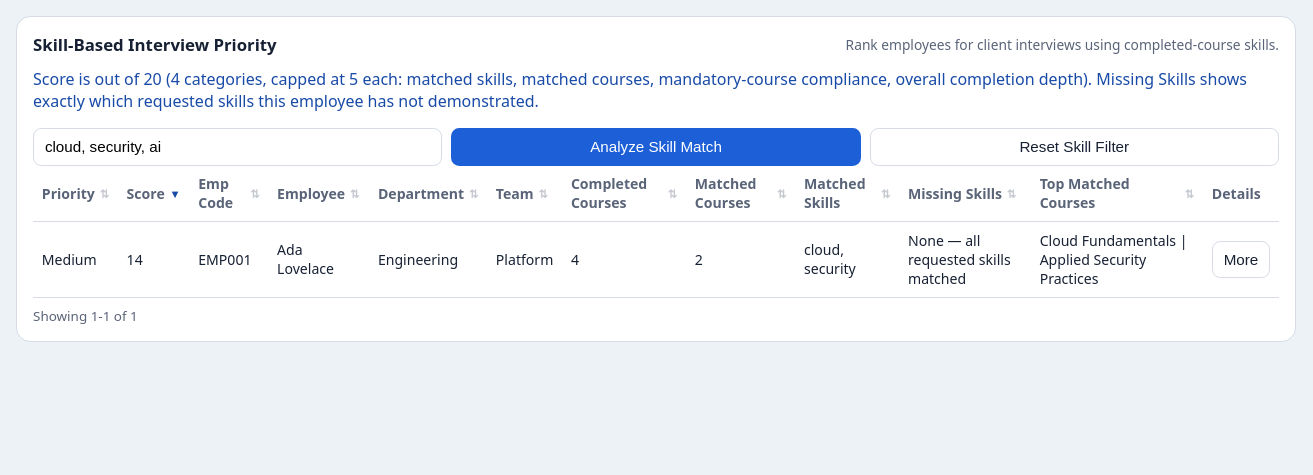
Scenario: SkillMatchPanel › expands a row to show the full matched-skills/courses detail, then collapses it again
This screenshot has width=1313, height=475.
Expected: the text "All Matched Skills" is not shown
Step 1. Click the button "More" → [1241, 259], box [1212, 241, 1270, 278]
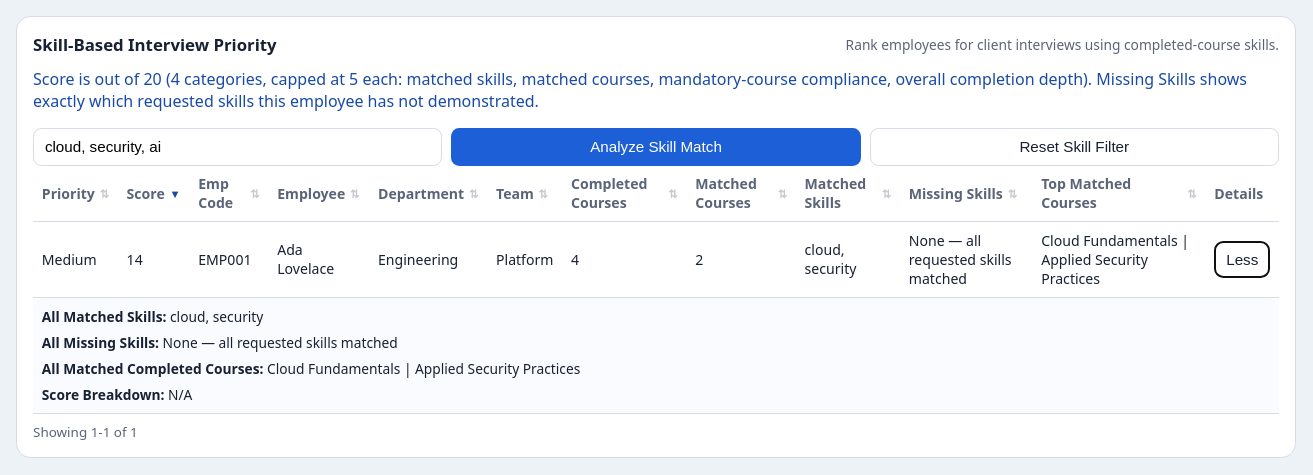
Expected: the button "Less" is expanded
Expected: the text "All Matched Skills:" is shown, [42, 306, 166, 326]
Step 2. Click the button "Less" → [1242, 259], box [1214, 241, 1270, 278]
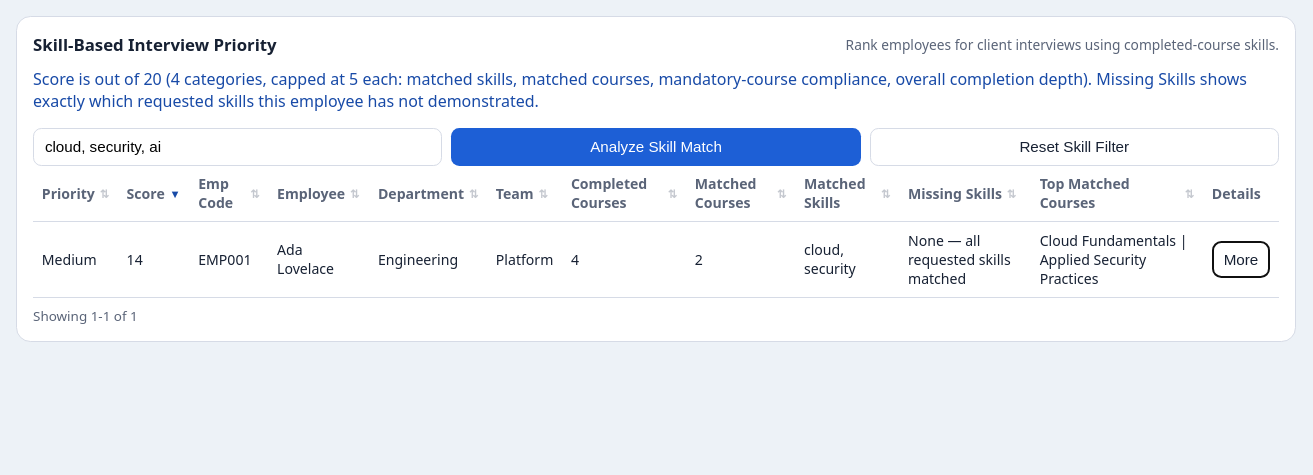
Expected: the text "All Matched Skills" is gone
